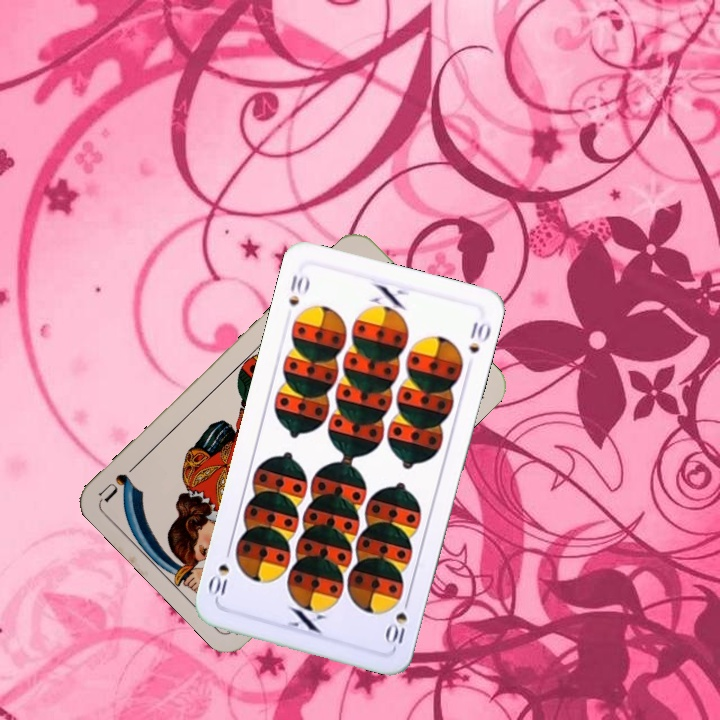S10: (382, 592, 413, 647), (284, 270, 312, 308)
